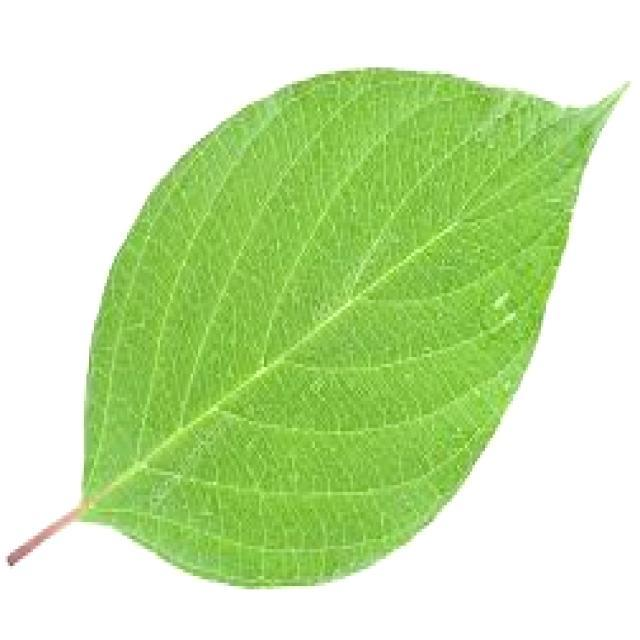leaf: (6, 64, 630, 589)
